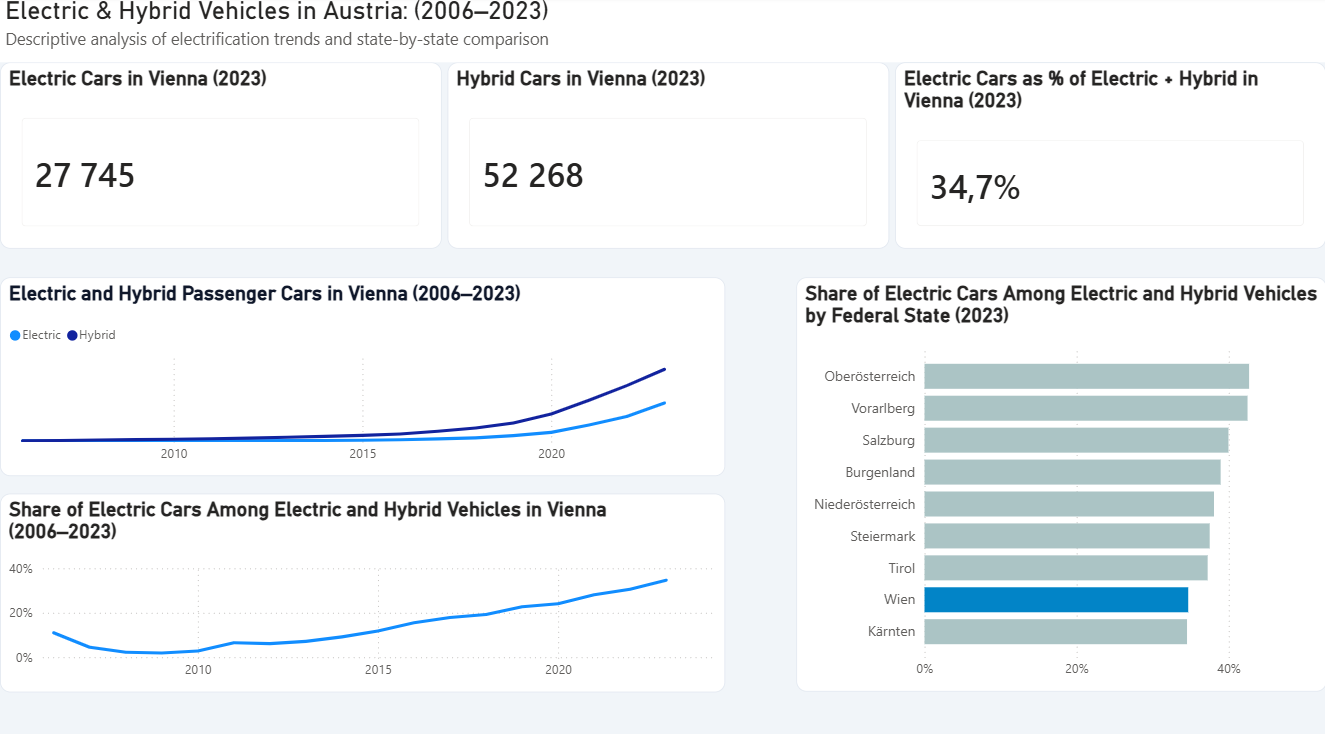

The page's visual inventory and layout, read from the dashboard file:
{"tool":"powerbi","page":{"name":"Страница 1","canvas":[1280,720],"ordinal":0},"visuals":[{"type":"lineChart","title":"Electric and Hybrid Passenger Cars in Vienna (2006–2023)","fields":{"Category":["Project.YEAR"],"Y":["Sum(Project.ELECTRICITY)","Sum(Project.HYBRID)"]},"box":[0,272,700,192],"z":0},{"type":"lineChart","title":"Share of Electric Cars Among Electric and Hybrid Vehicles in Vienna (2006–2023)","fields":{"Category":["Project.YEAR"],"Y":["Project.EV Share"]},"box":[0,480,700,192],"z":1000},{"type":"clusteredBarChart","title":"Share of Electric Cars Among Electric and Hybrid Vehicles by Federal State (2023)","fields":{"Category":["Project.FEDERAL_STATE"],"Y":["Project.EV Share"]},"box":[768,272,512,400],"z":2000},{"type":"cardVisual","title":"Electric Cars in Vienna (2023)","fields":{"Data":["Project.EV 2023"]},"box":[0,64,426,180],"z":3000},{"type":"cardVisual","title":"Hybrid Cars in Vienna (2023)","fields":{"Data":["Project.Hybrid 2023"]},"box":[432,64,426,180],"z":5000},{"type":"textbox","title":"Electric & Hybrid Vehicles in Austria: (2006–2023)","box":[0,0,1280,64],"z":6000},{"type":"cardVisual","title":"Electric Cars as % of Electric + Hybrid in Vienna (2023)","fields":{"Data":["Project.EV Share 2023"]},"box":[864,64,416,180],"z":7000}]}

Visuals, with their boxes in screenshot pixels (x1, y1, x2, y2), scaled from the page's 1280x720 canvas onto the 1325x734 screenshot:
"Electric and Hybrid Passenger Cars in Vienna (2006–2023)" lineChart: 0/277/725/473
"Share of Electric Cars Among Electric and Hybrid Vehicles in Vienna (2006–2023)" lineChart: 0/489/725/685
"Share of Electric Cars Among Electric and Hybrid Vehicles by Federal State (2023)" clusteredBarChart: 795/277/1324/685
"Electric Cars in Vienna (2023)" cardVisual: 0/65/441/249
"Hybrid Cars in Vienna (2023)" cardVisual: 447/65/888/249
"Electric & Hybrid Vehicles in Austria: (2006–2023)" textbox: 0/0/1324/65
"Electric Cars as % of Electric + Hybrid in Vienna (2023)" cardVisual: 894/65/1324/249
